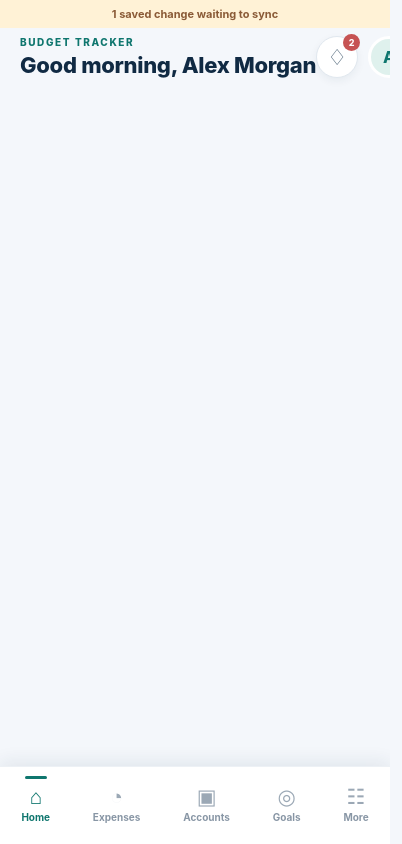
Test: mobile app › restores a cached session offline and applies newer background snapshots and queued changes
Check: the text "Good morning, Alex Morgan" is shown, box [20, 52, 316, 78]
Check: the text "1 saved change waiting to sync" is shown, box [112, 7, 278, 21]
Click the button with aria-label "Open Expenses" at (117, 806), box [93, 776, 140, 836]
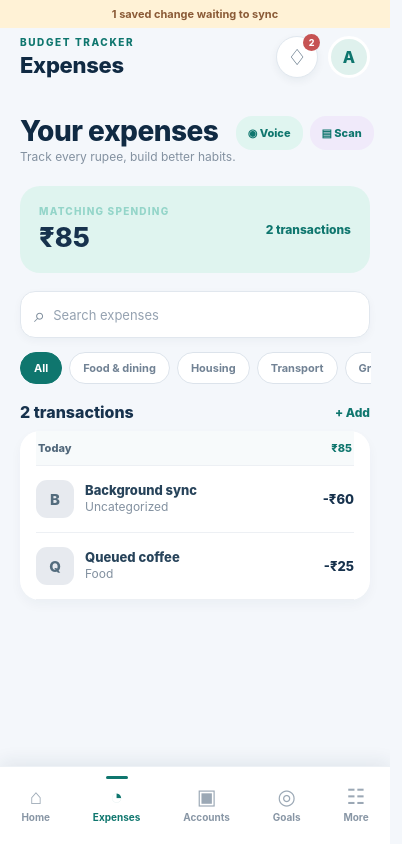
Check: the text "Your expenses" is shown, box [20, 114, 236, 148]
Check: the text "Background sync" is shown, box [85, 482, 197, 498]
